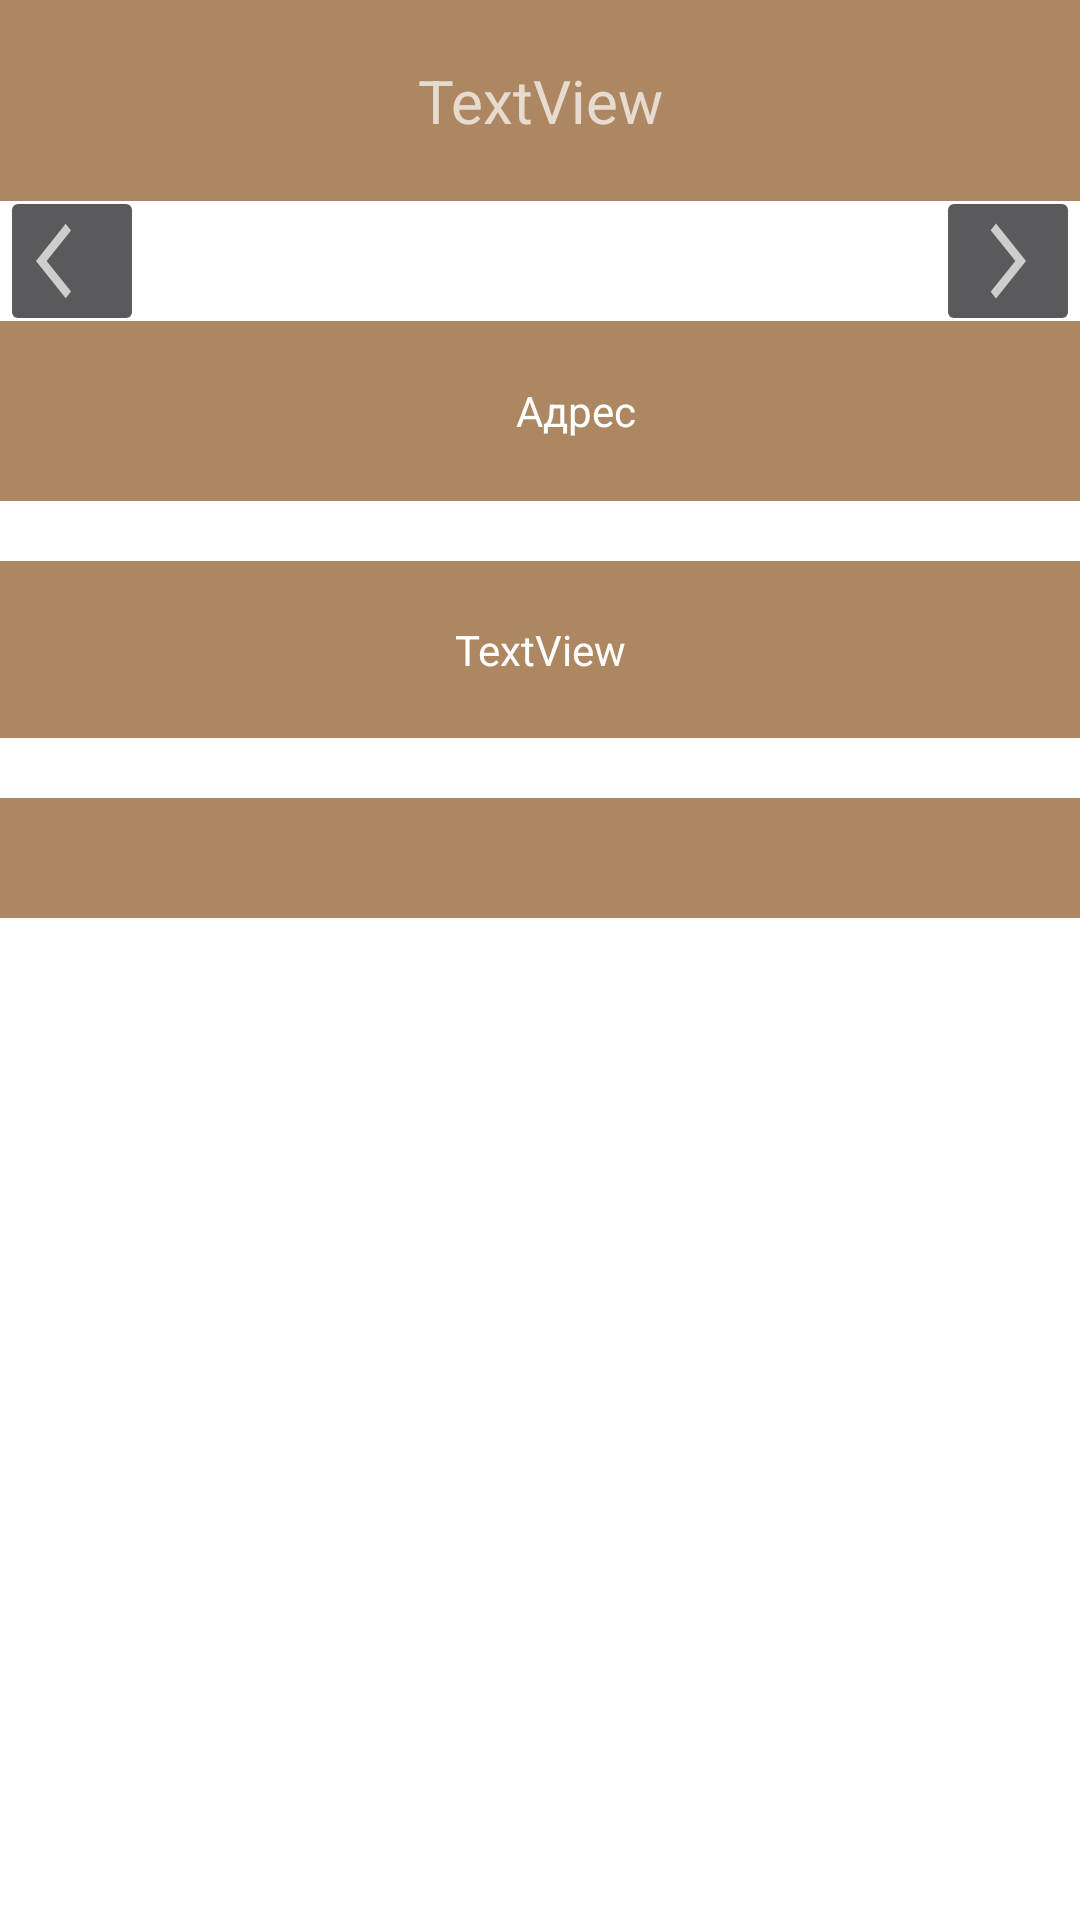

Icons on this 1080w x 1920h Android screen, each with the point to tap as [x,y]:
back: [72,261]
next: [1008,261]
